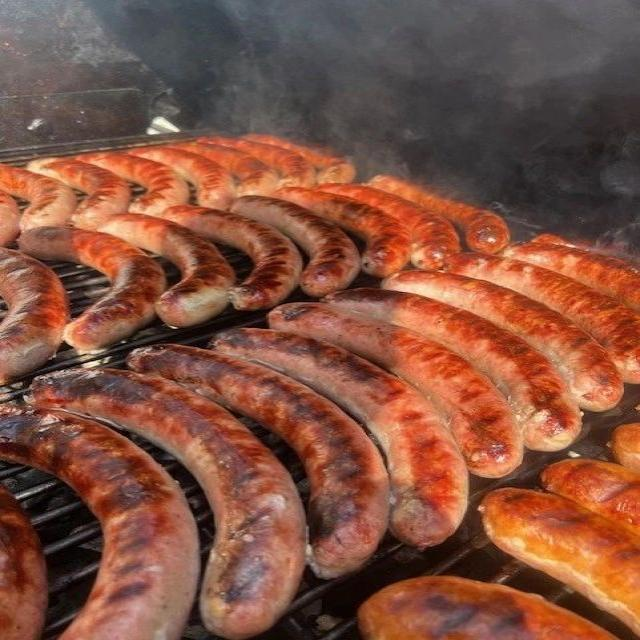sausage: (31, 369, 306, 639), (127, 345, 388, 578), (211, 329, 468, 548), (0, 405, 199, 639), (269, 303, 522, 476), (326, 289, 581, 450), (382, 271, 624, 410), (448, 254, 639, 382), (481, 488, 639, 633), (19, 227, 166, 352), (358, 576, 615, 639), (98, 214, 235, 326), (163, 205, 303, 309), (231, 196, 360, 297), (275, 187, 411, 277), (317, 183, 460, 268), (368, 175, 509, 253), (503, 240, 639, 310), (0, 248, 69, 382), (541, 458, 639, 534), (0, 485, 47, 639), (76, 152, 190, 215), (28, 158, 131, 227), (127, 146, 235, 209), (197, 136, 316, 186), (169, 141, 278, 195), (243, 134, 356, 182), (0, 164, 75, 229), (611, 423, 639, 472), (0, 190, 19, 245), (530, 233, 580, 246)
